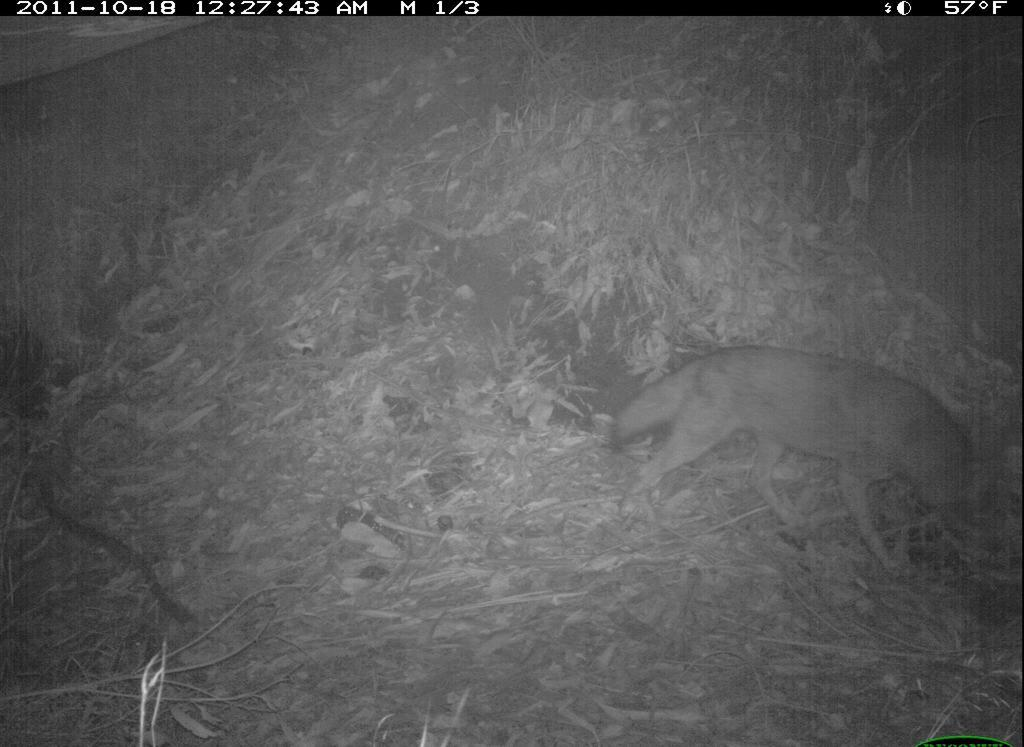coyote: (610, 329, 1000, 591)
